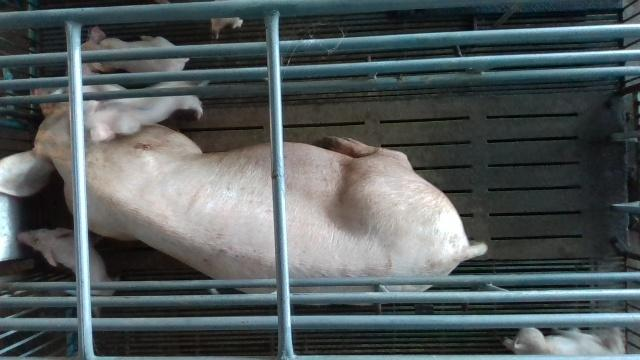piglet: (84, 81, 203, 141), (16, 227, 119, 296), (80, 26, 189, 72), (504, 328, 626, 356)
sow-sit: (1, 89, 487, 305)
